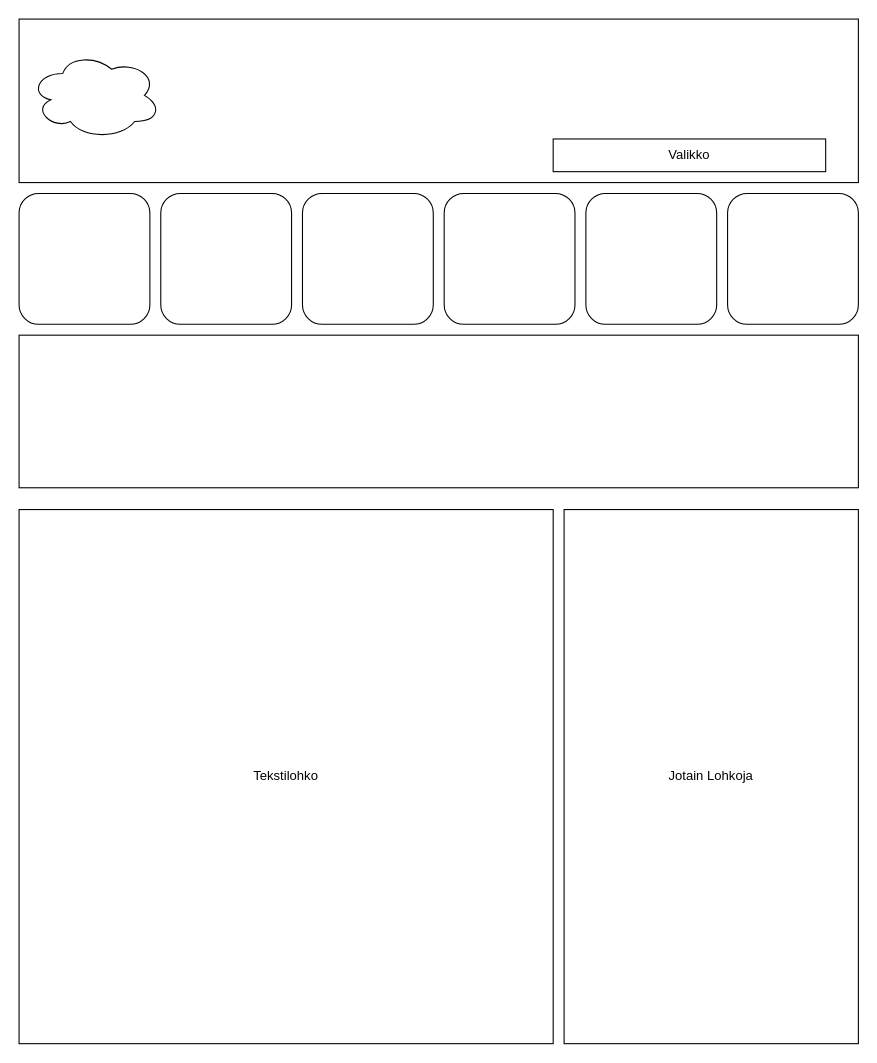
This 877x1063 diagram has some shape labels left out. The centre of each missing label's shape, as x and y in pixels:
"Kuvagalleria" goes at (438,411).
"LOGO" goes at (95,95).
